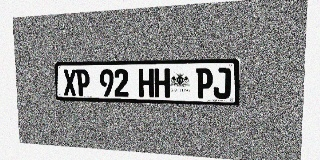2: (114, 69, 129, 97)
9: (100, 69, 114, 96)
H: (154, 68, 170, 98), (139, 68, 154, 97)
J: (213, 68, 231, 99)
P: (196, 68, 213, 98), (76, 69, 90, 96)
X: (63, 69, 77, 96)
